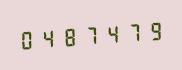eight: (59, 22, 79, 50)
four: (38, 23, 58, 52), (101, 19, 121, 47)
nine: (143, 16, 163, 44)
seven: (80, 20, 100, 49), (122, 17, 142, 46)
zero: (17, 25, 37, 53)
